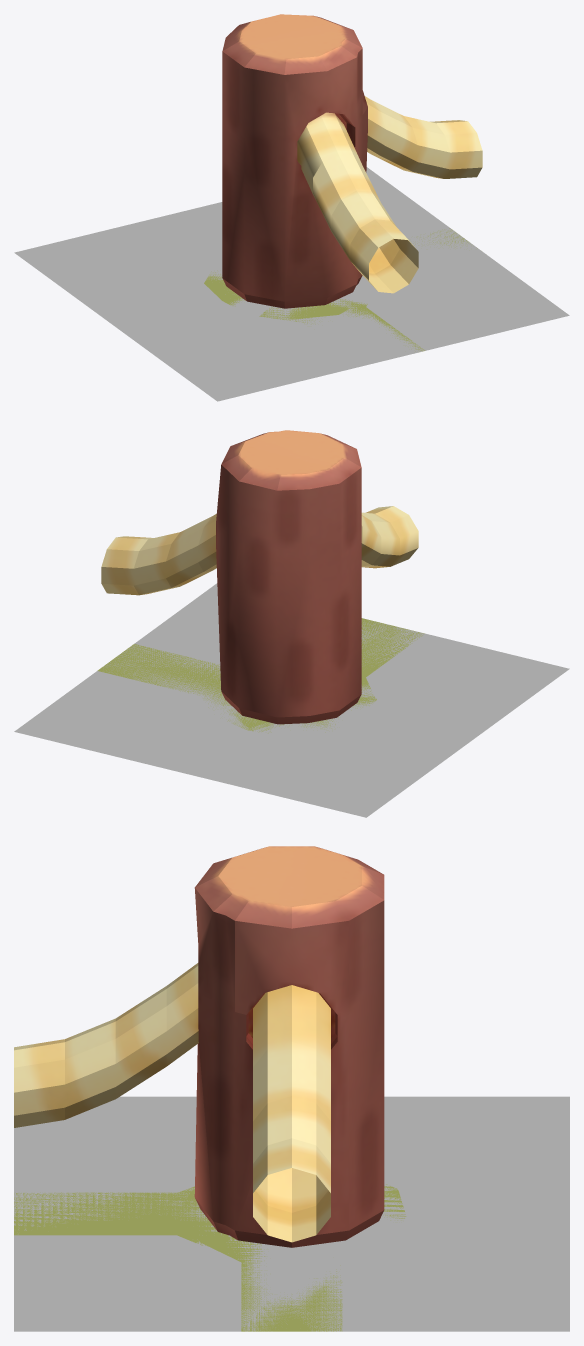
File: Fence_Perpendicular.fbx
3 views of the same model, one above another, from view 1: azimuth 30°, elevation 25°; view 2: azimuth 150°, elevation 25°; view 3: azimuth 270°, elevation 25° (orthographic). The views are drawn at different scales.
Parts seen in each view (by area): view 1: FencePerpendicular, FencePerpendicularGrid, FencePerpendicularShadow; view 2: FencePerpendicularGrid, FencePerpendicular, FencePerpendicularShadow; view 3: FencePerpendicularGrid, FencePerpendicular, FencePerpendicularShadow.
Boxes of the visible parts, box(x1,y1,x2,y2) form: FencePerpendicular: box(222, 14, 482, 308); FencePerpendicularGrid: box(14, 167, 569, 401); FencePerpendicularShadow: box(204, 228, 477, 351); FencePerpendicularGrid: box(14, 583, 569, 817); FencePerpendicular: box(101, 430, 418, 724); FencePerpendicularShadow: box(97, 618, 424, 733); FencePerpendicularGrid: box(14, 1096, 569, 1331); FencePerpendicular: box(14, 846, 384, 1247); FencePerpendicularShadow: box(14, 1184, 406, 1331).
Size of the model in its own units: 100 by 67.1 by 100.
